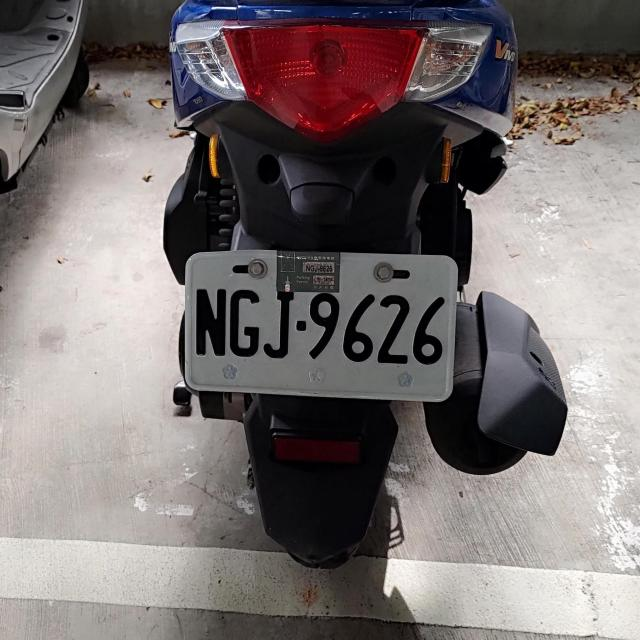W: (185, 250, 455, 398)
